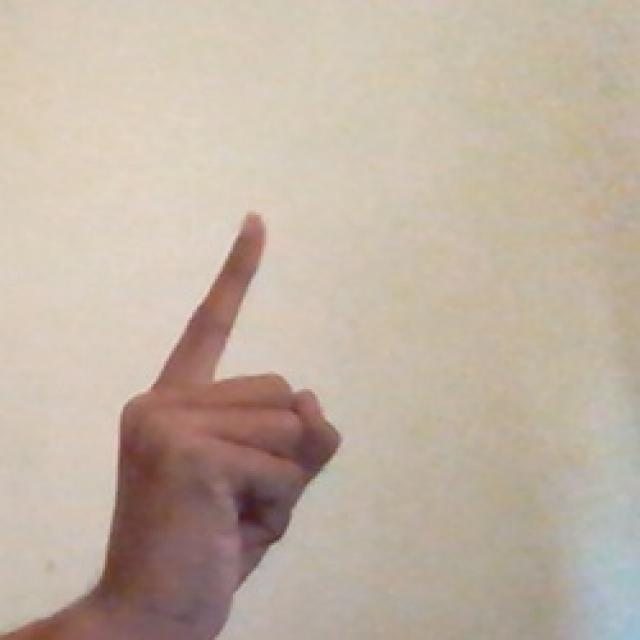Alphabet-I: (99, 136, 404, 640)
